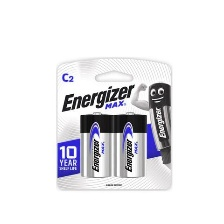battery: (77, 110, 115, 179), (112, 111, 149, 181)
book: (51, 54, 174, 195)
